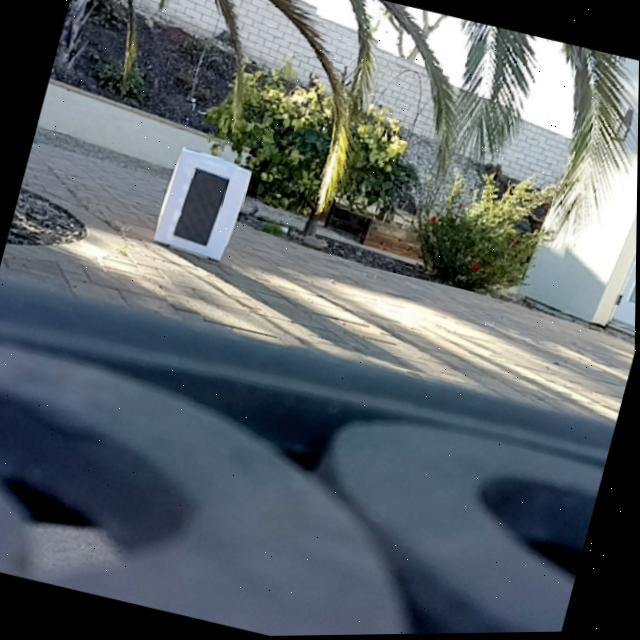led: (173, 166, 229, 248)
